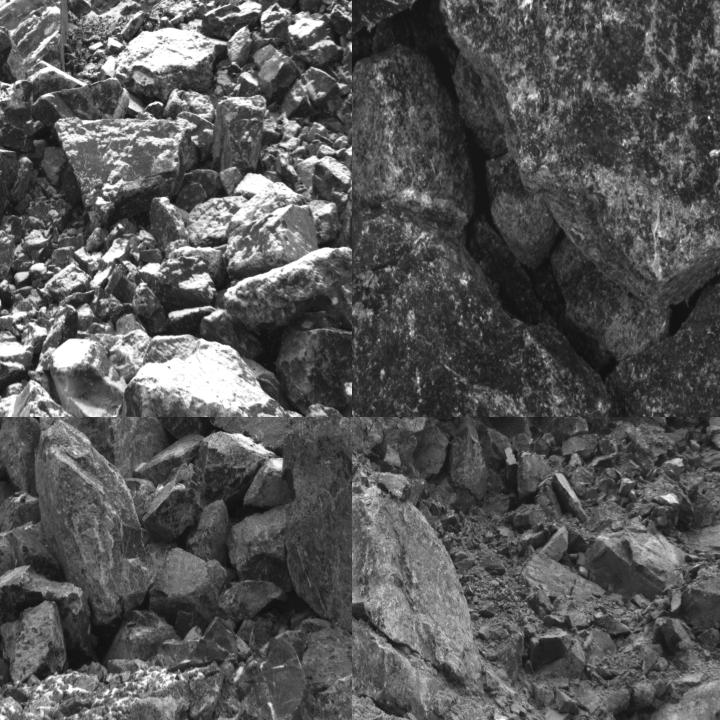stone: (441, 0, 719, 305), (352, 196, 609, 416), (352, 492, 485, 694), (352, 47, 474, 238), (30, 422, 148, 614), (575, 278, 719, 416), (108, 337, 318, 416), (284, 417, 351, 663), (550, 237, 670, 359), (60, 118, 197, 219), (352, 605, 459, 719), (227, 246, 351, 344), (469, 208, 552, 327), (223, 181, 314, 279), (486, 154, 558, 266), (582, 527, 688, 598), (112, 27, 219, 95), (149, 550, 228, 637), (242, 632, 314, 719), (194, 432, 278, 503), (48, 340, 126, 416), (34, 76, 130, 137), (0, 600, 68, 684), (0, 0, 70, 78), (282, 327, 351, 405), (454, 52, 507, 153), (142, 463, 203, 544), (0, 382, 136, 416), (212, 94, 264, 170), (447, 417, 489, 501), (199, 417, 302, 451), (284, 67, 342, 121), (188, 196, 248, 248), (137, 436, 204, 481), (0, 417, 40, 492), (678, 559, 719, 631), (36, 304, 78, 374), (218, 580, 288, 622), (157, 255, 216, 303), (286, 18, 344, 66), (190, 498, 229, 562), (0, 79, 34, 152), (300, 674, 351, 719), (256, 51, 301, 100), (337, 99, 351, 251), (310, 154, 351, 201), (43, 262, 91, 301), (516, 452, 555, 497), (0, 329, 30, 385), (553, 473, 586, 521), (311, 199, 341, 247), (10, 154, 35, 202), (371, 471, 411, 501), (152, 417, 209, 438), (549, 417, 589, 446), (132, 281, 162, 315), (542, 526, 569, 561), (561, 434, 599, 458), (104, 239, 132, 270), (73, 246, 104, 270), (340, 40, 351, 104), (698, 628, 720, 653), (384, 445, 401, 466), (619, 478, 636, 496)
